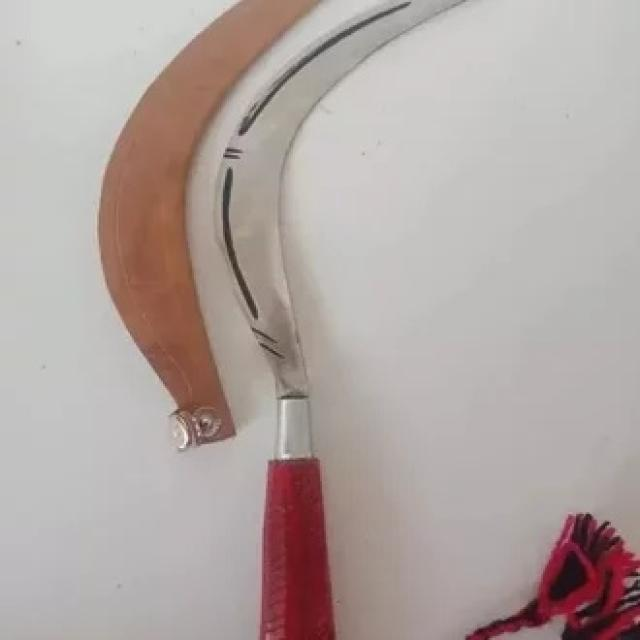Celurit: (216, 1, 463, 640)
